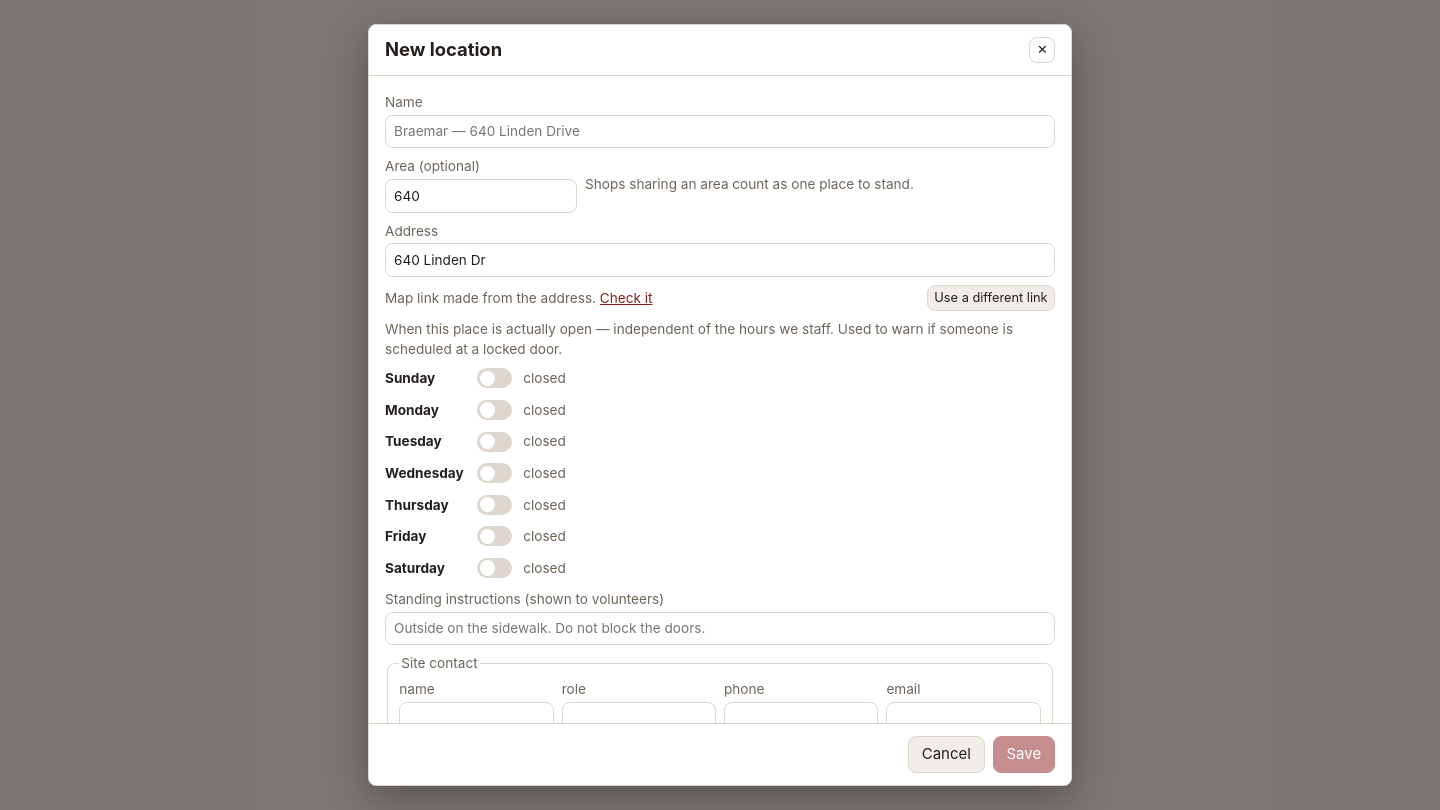
Test: adding one whose name is already taken › catches a name that only differs by punctuation, because the id would not
This screenshot has width=1440, height=810.
Type "Braemar - 640 Linden Drive" into the field labelled "Name" at (720, 132), box [385,115,1055,148]
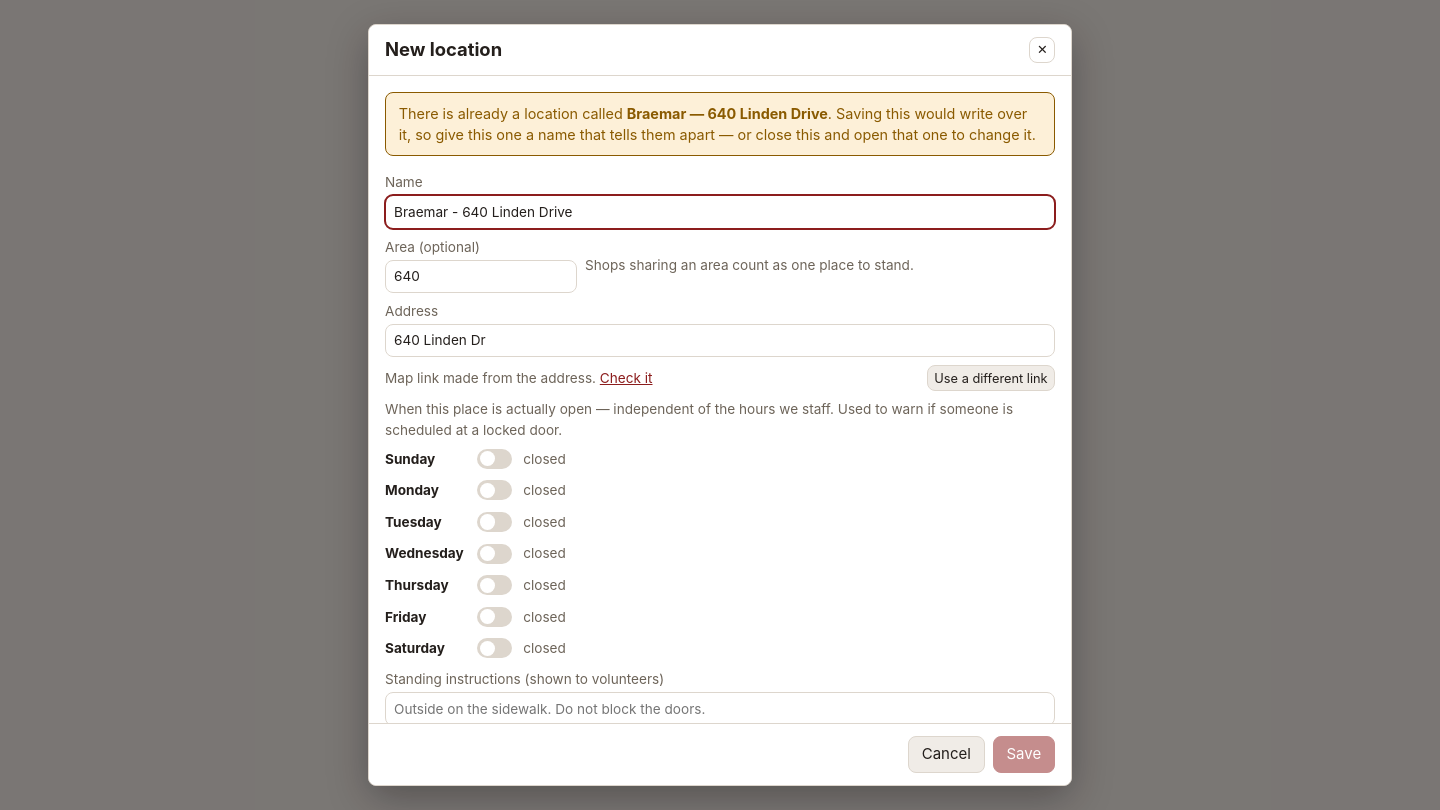
Check: the text "already a location called" is shown, box [399,105,627,122]
